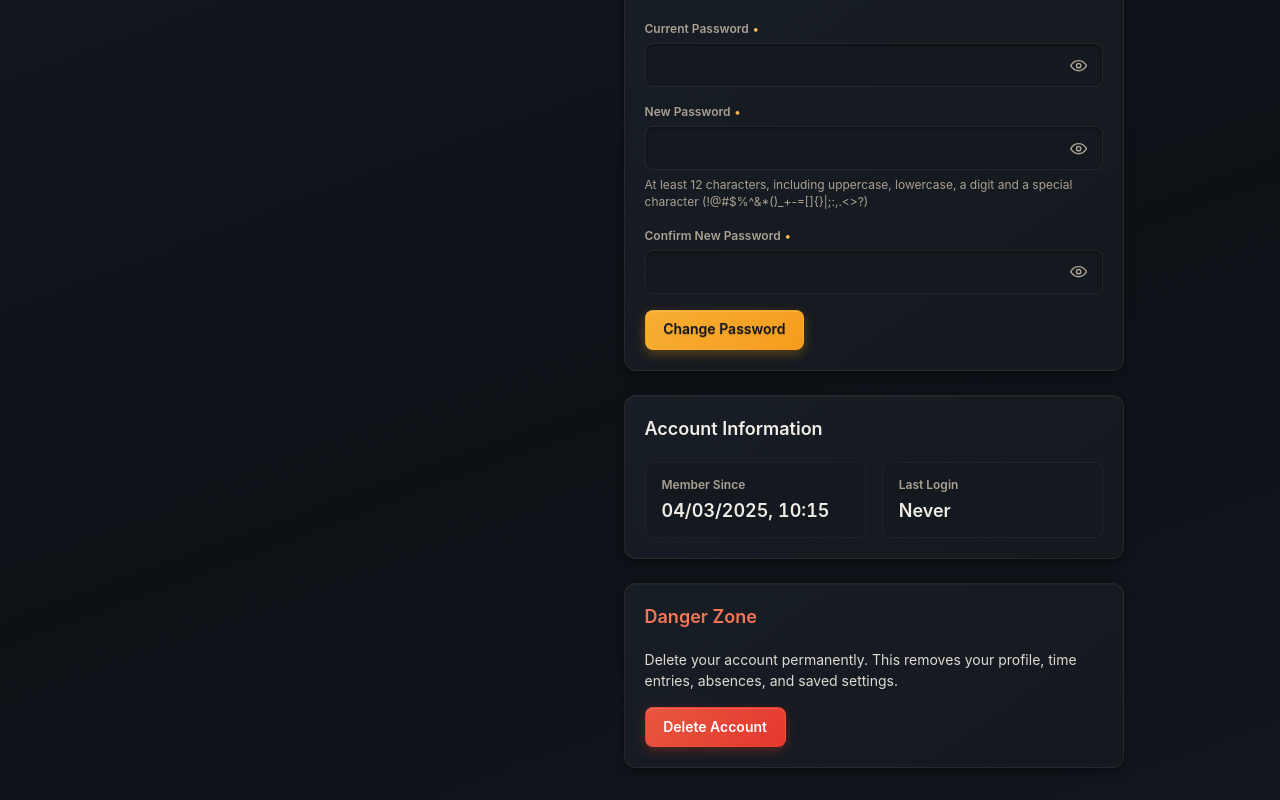
Test: SettingsPage – delete account › requires the DELETE confirmation
(page scrolled)
Click the button "Delete Account" at point(715, 727), box [644,707,786,747]
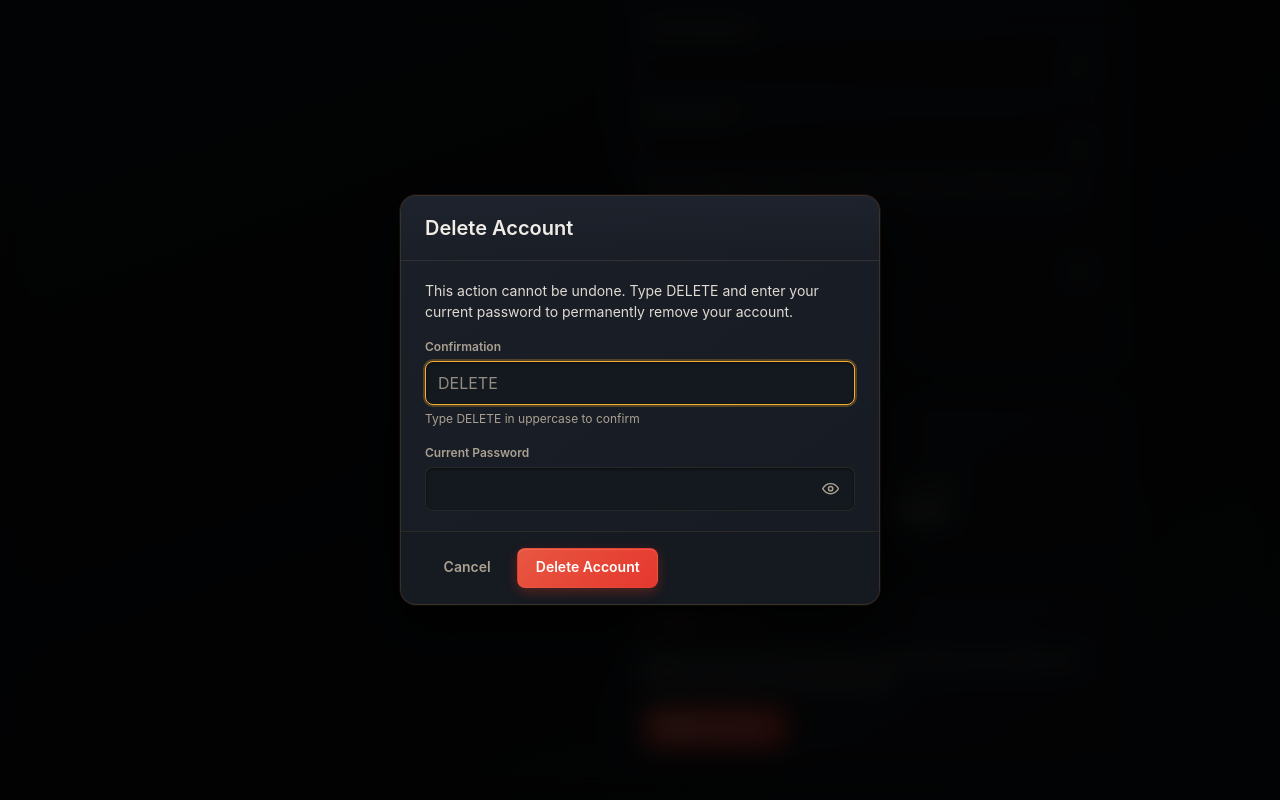
Type "delete" into the field with placeholder "DELETE" at point(640, 383), box [438,362,842,404]
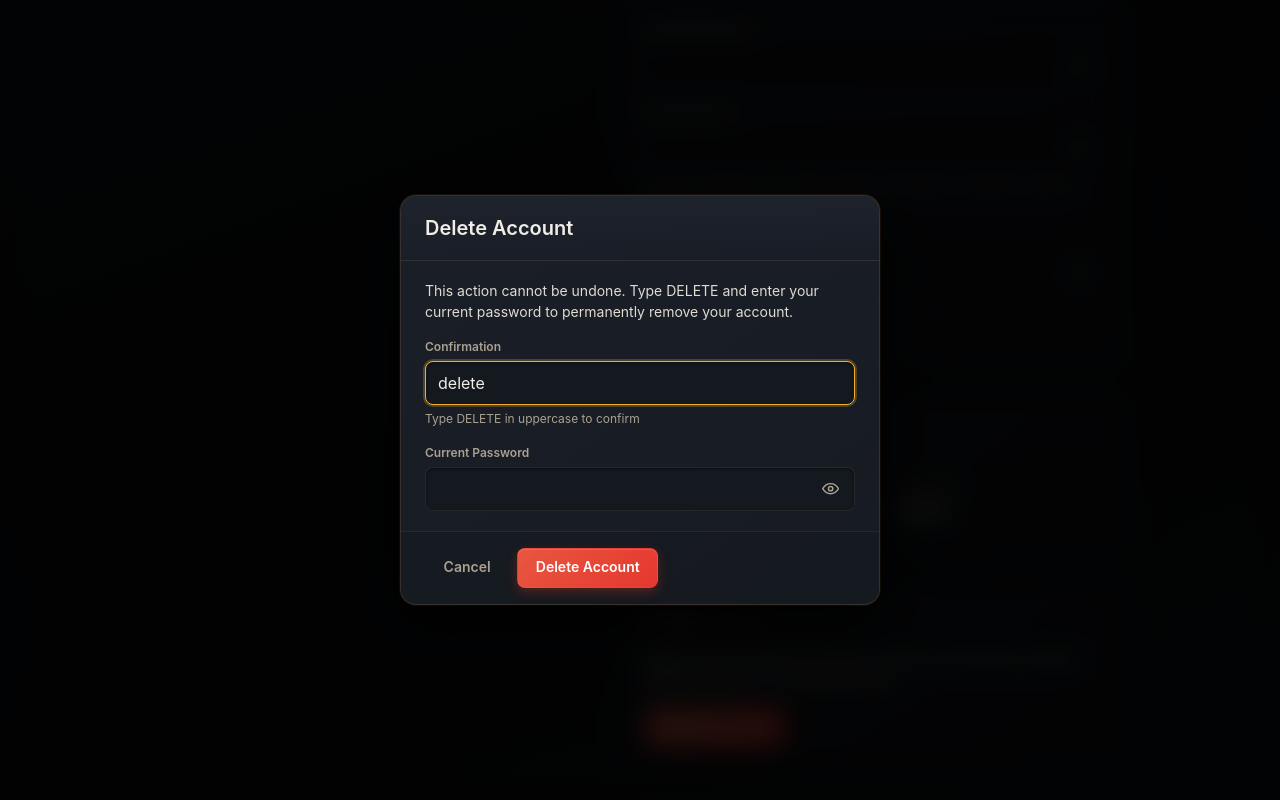
Click the button "Delete Account" at point(588, 568), box [517,548,658,588]
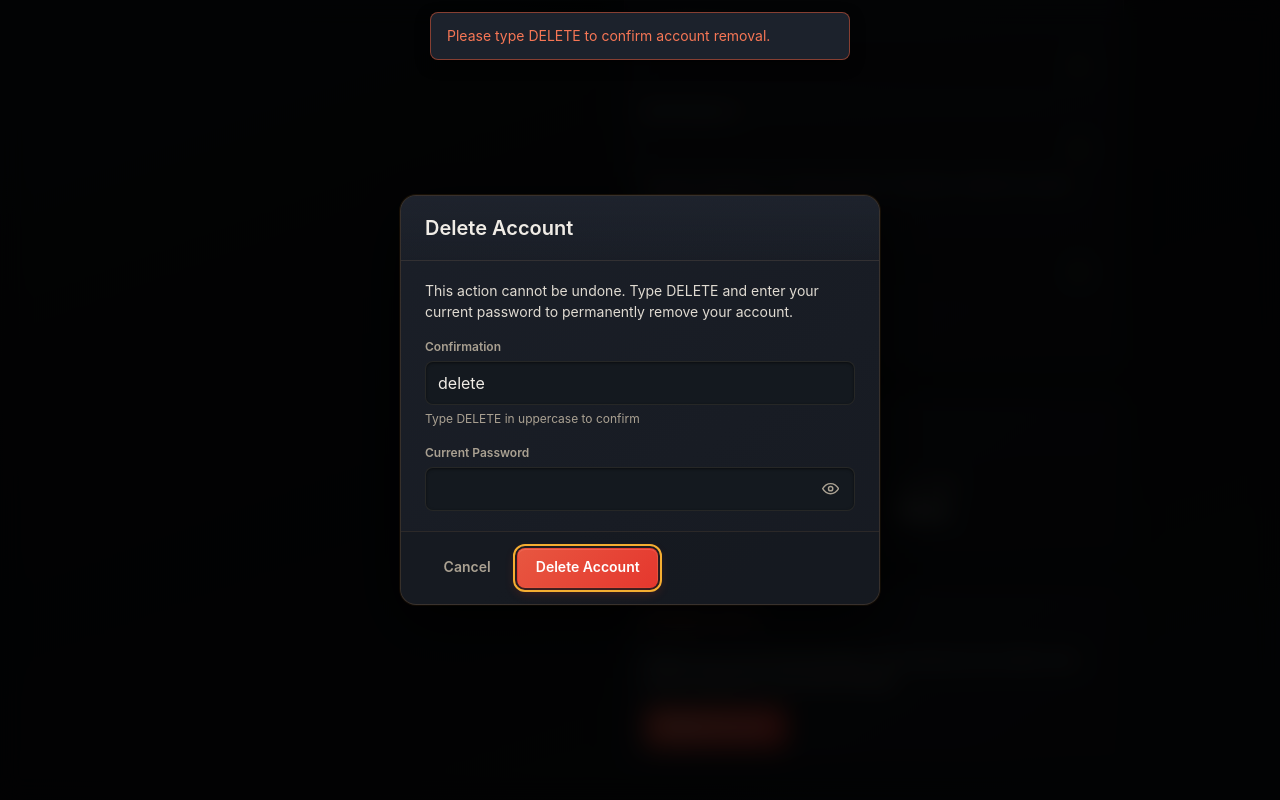
expect the text "Please type DELETE to confirm account removal." is shown: met, box [430,12,850,60]
